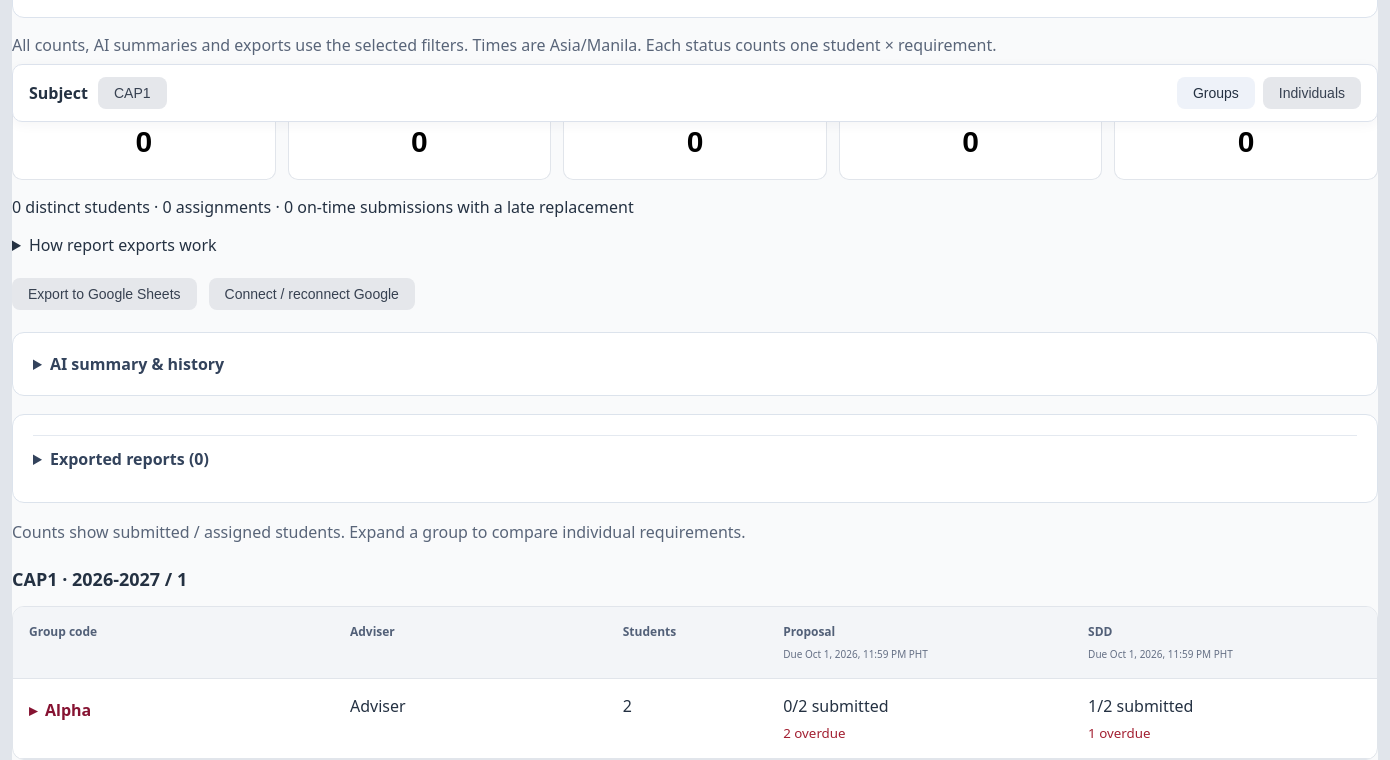
coordinator overview combines deliverables without repeating groups or students
(page scrolled)
Check: the element with class "group-overview" shows "1/2 submitted", box top-left (12, 521), bottom-right (1378, 759)
Check: the element with class "group-overview" shows "0/2 submitted", box top-left (12, 521), bottom-right (1378, 759)
Click the button "▸ Alpha": (60, 710) top-left (29, 695), bottom-right (91, 725)
(page scrolled)
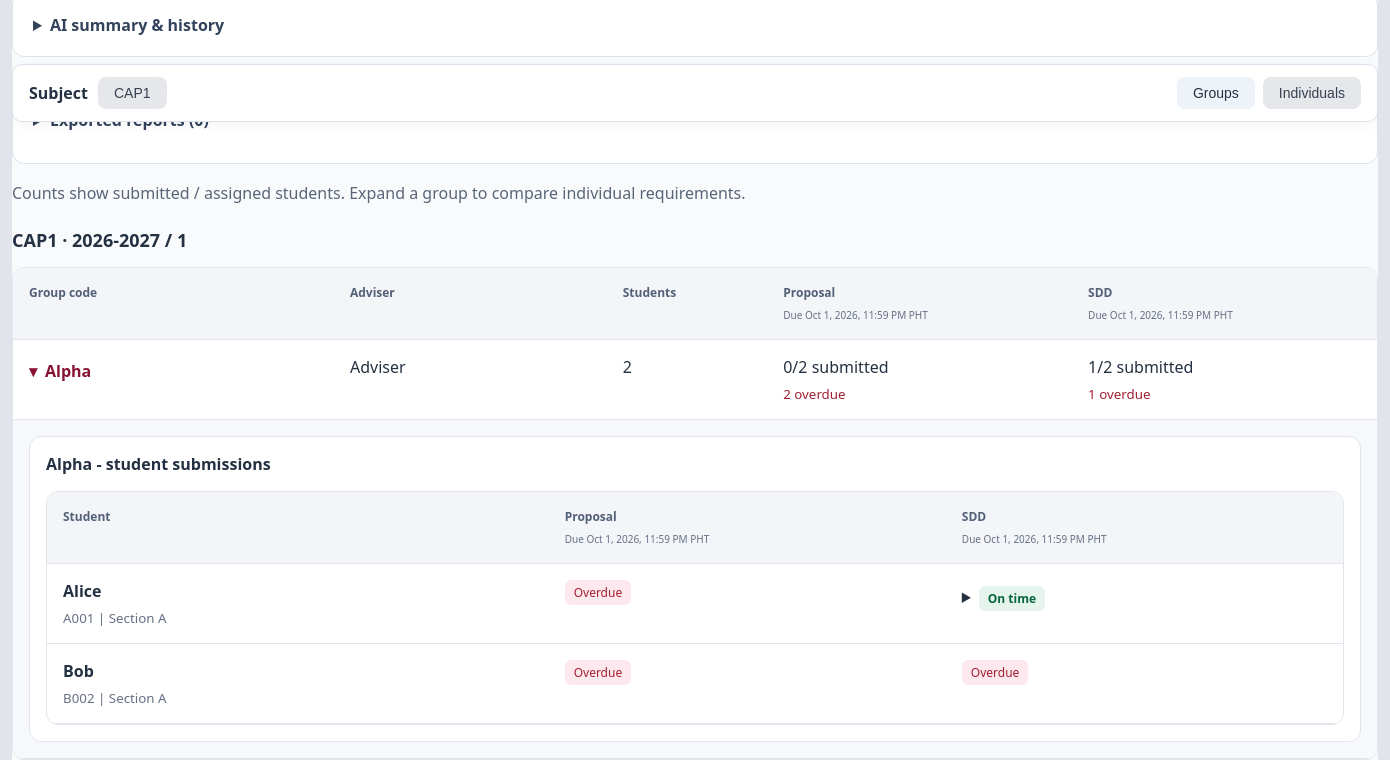
Check: the element with class "group-detail-panel" shows "Proposal", box top-left (565, 508), bottom-right (617, 525)
Check: the element with class "group-detail-panel" shows "SDD", box top-left (962, 508), bottom-right (986, 525)
